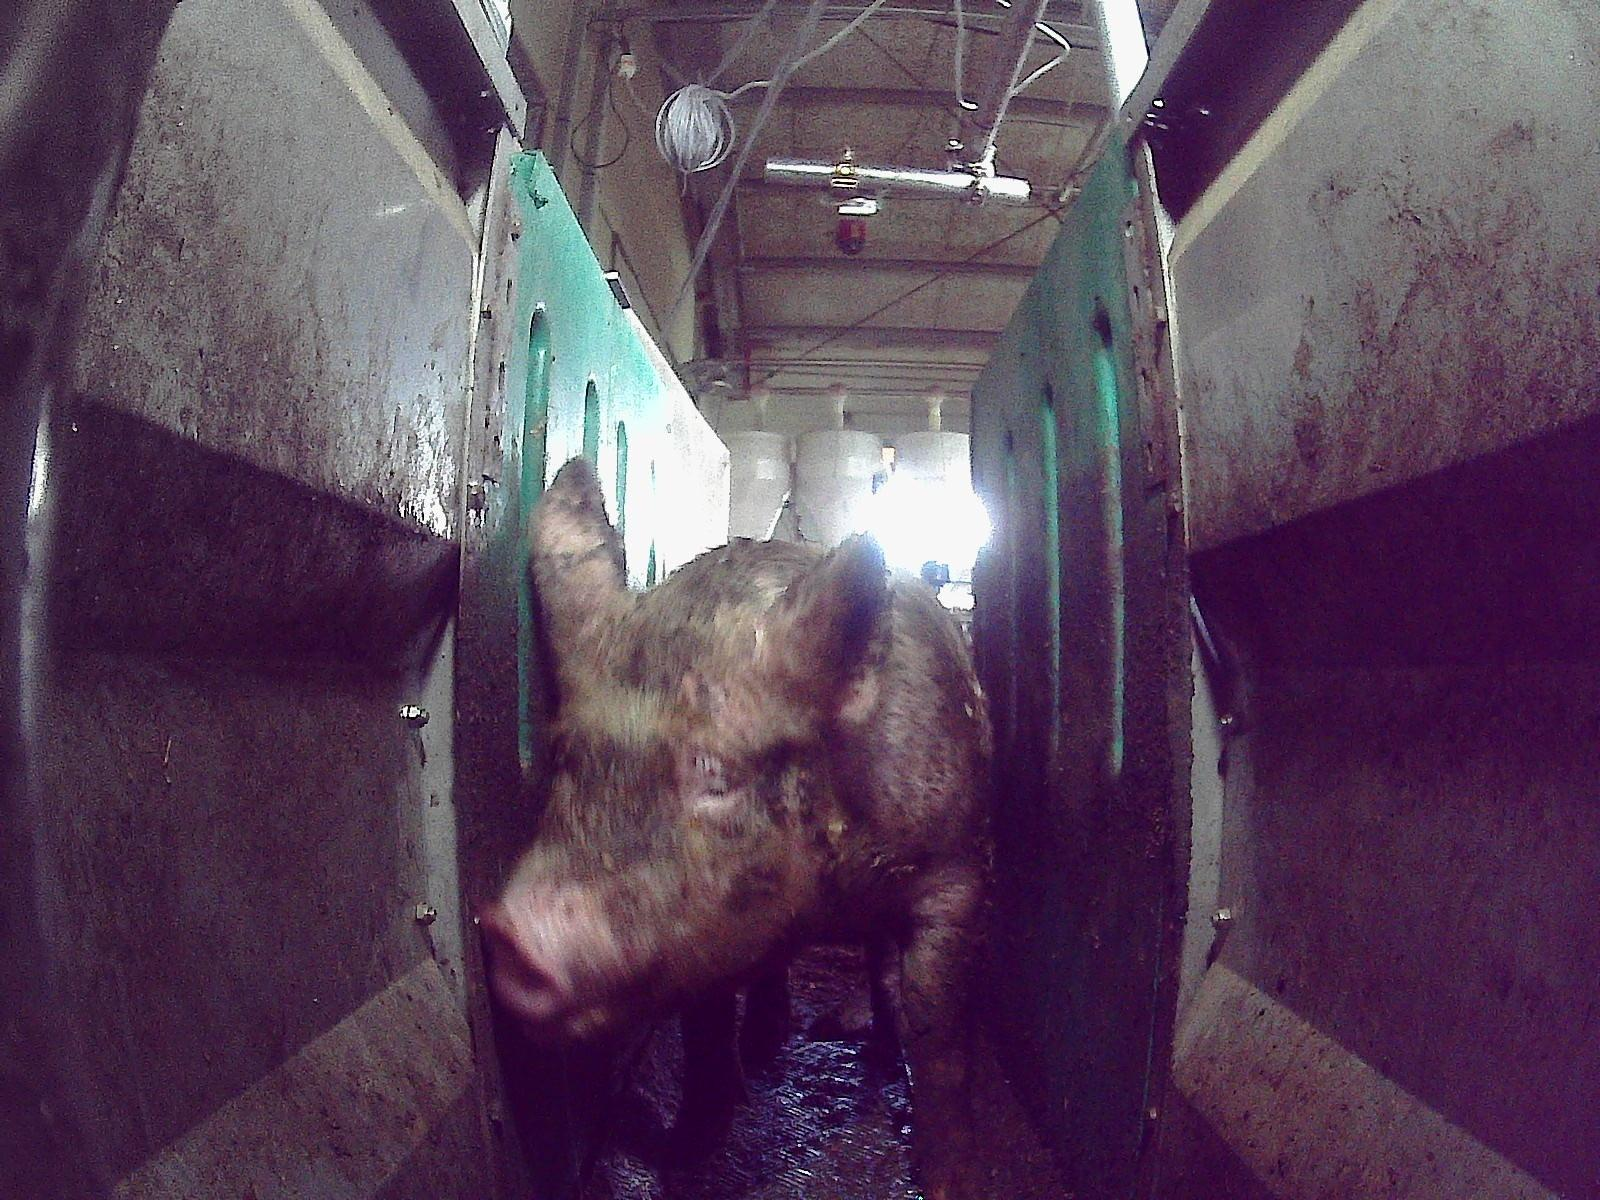Face: (474, 587, 854, 1041)
